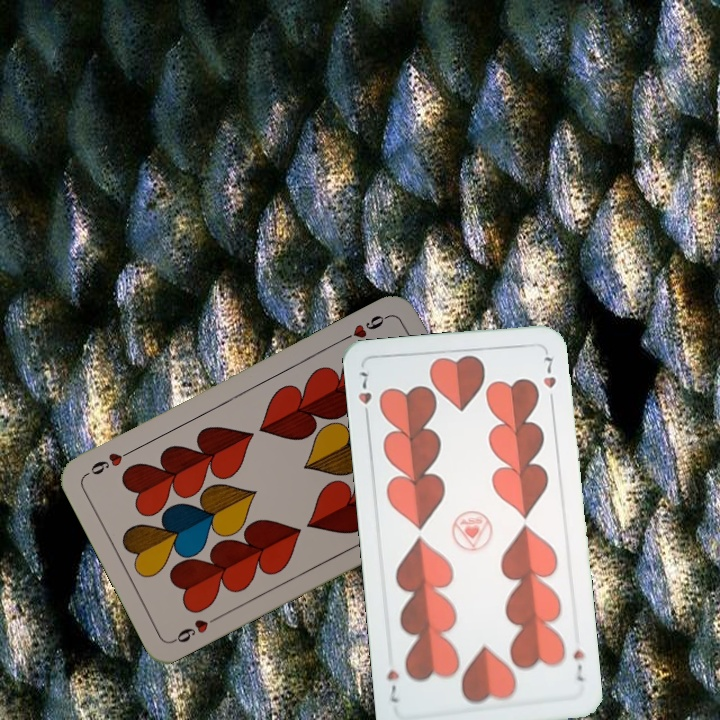H7: (353, 366, 375, 424), (569, 645, 587, 684)
H9: (169, 611, 223, 646), (339, 310, 394, 343)
